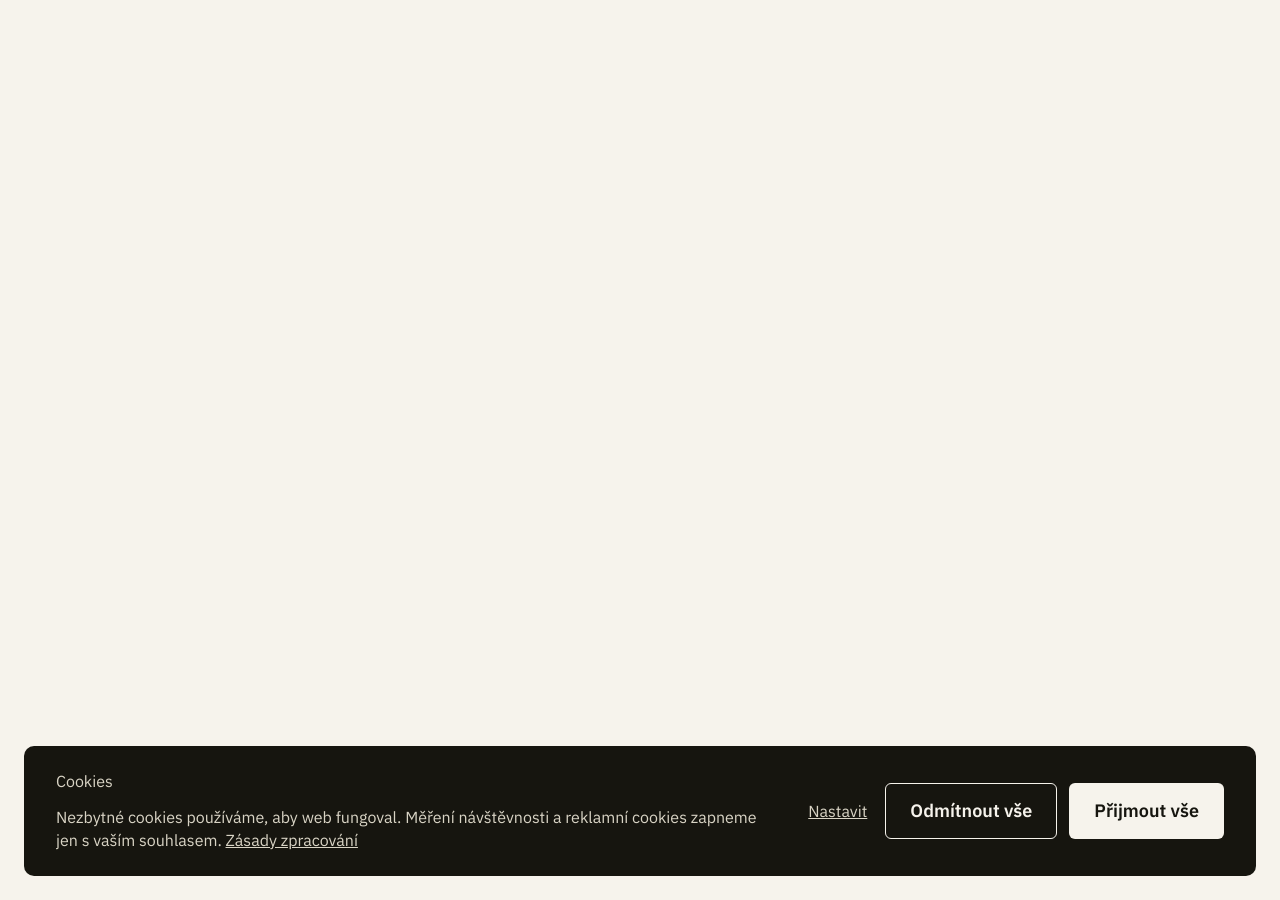
CookieConsent › has both optional switches off until the visitor agrees
Click the button "Nastavit". click: (838, 811)
box: [802,789,873,833]
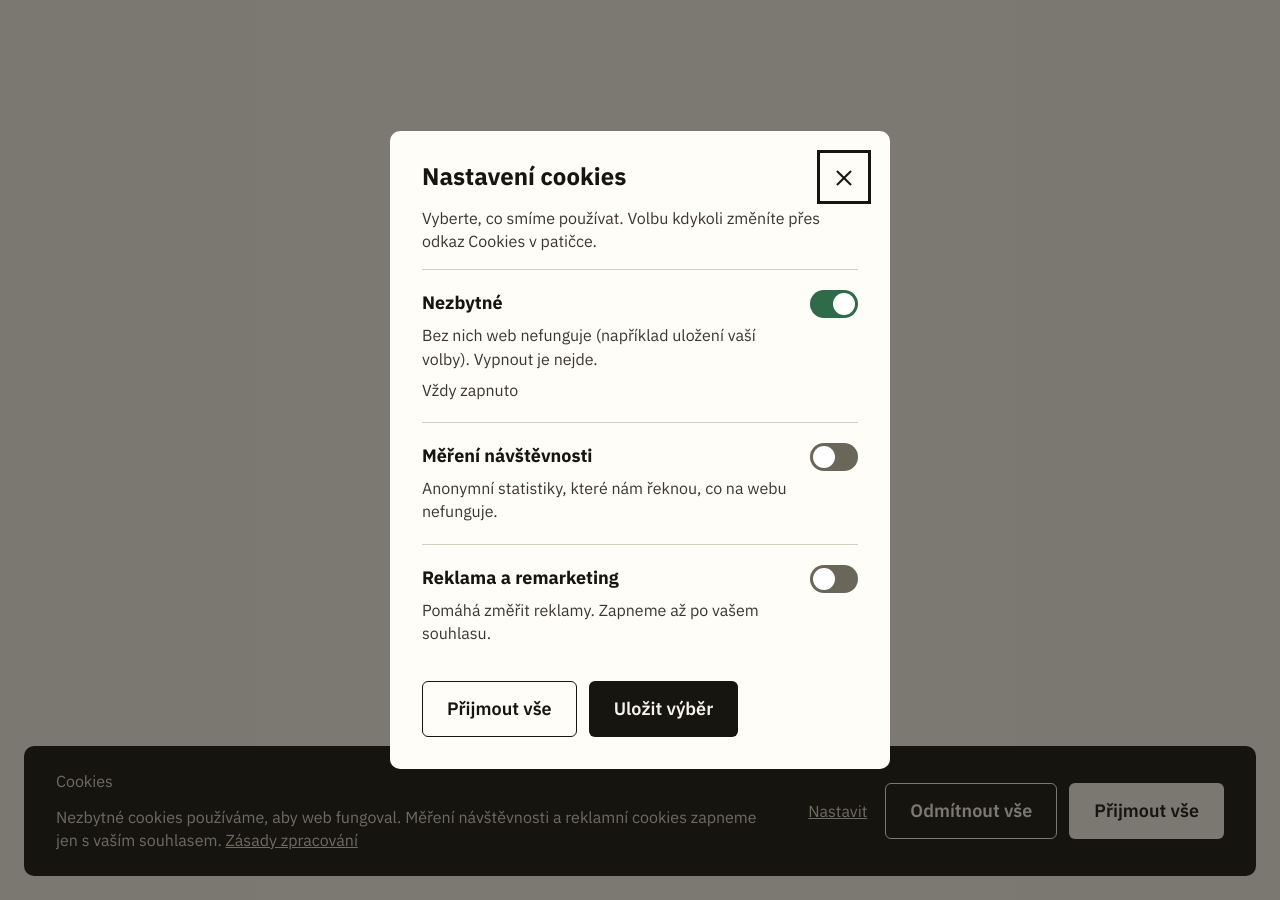
Now the switch labelled "Nezbytné" is checked, box [810,290,858,318]
Now the switch labelled "Nezbytné" is disabled, box [810,290,858,318]
Now the switch labelled "Měření návštěvnosti" is not checked, box [810,443,858,471]
